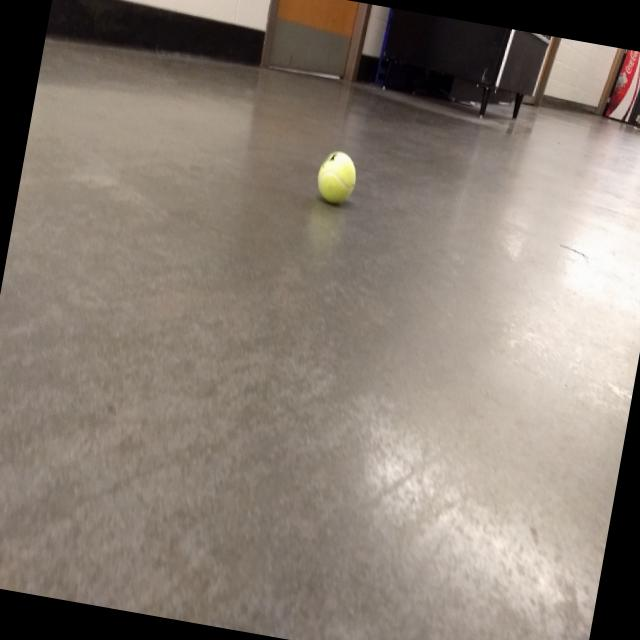tennis-ball: (314, 148, 360, 208)
